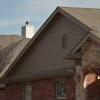Chimney: (17, 17, 37, 39)
